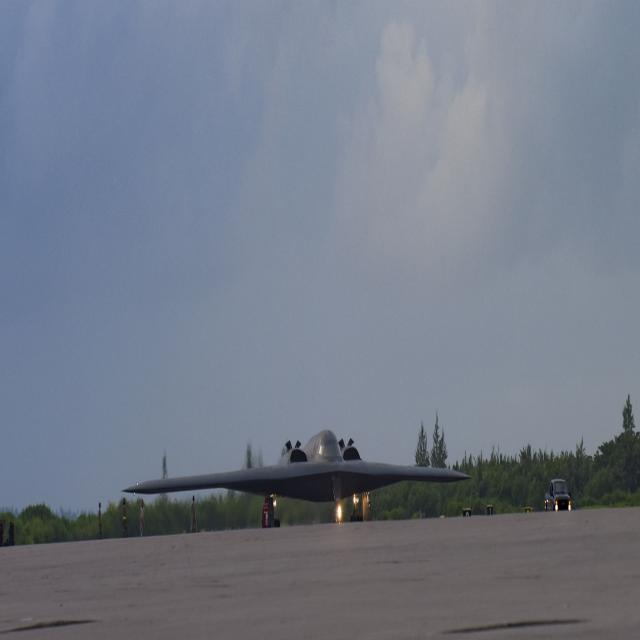MIL_Plane: (120, 428, 472, 527)
